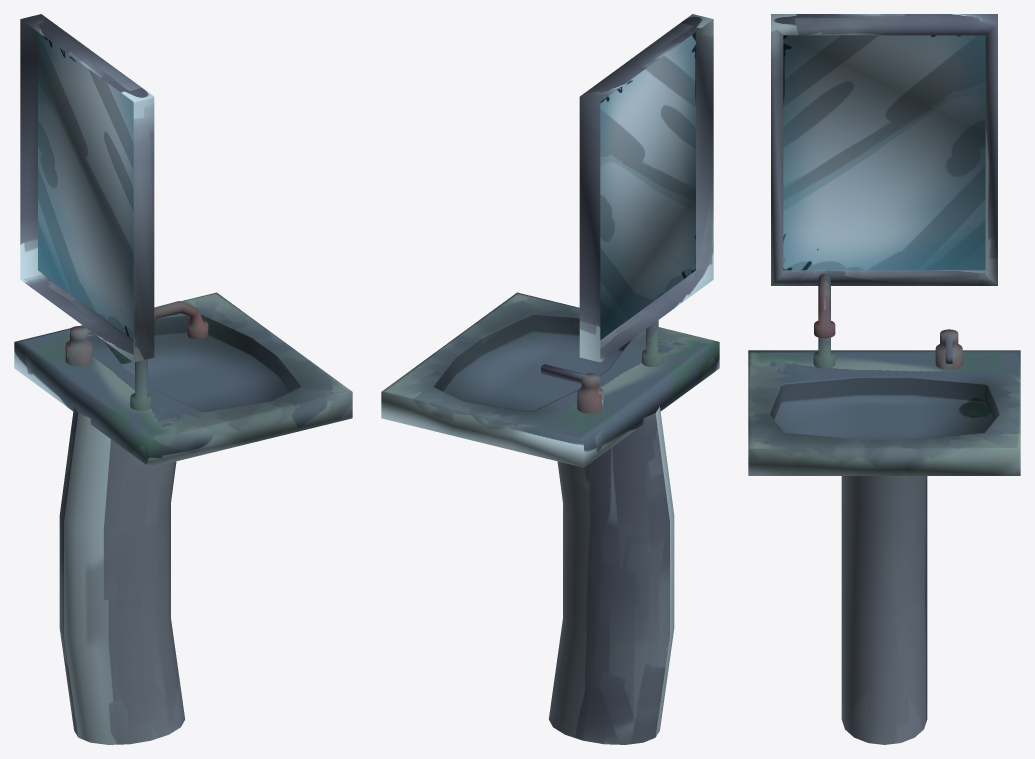
File: Torneira.fbx
The picture shows the model from 3 angles, left to right: view 1: azimuth 30°, elevation 25°; view 2: azimuth 150°, elevation 25°; view 3: azimuth 270°, elevation 25°; orthographic projection.
Parts seen in each view (by area): view 1: Torneira; view 2: Torneira; view 3: Torneira.
Part boxes in pixels (left/top/right/bottom): Torneira: left=14, top=14, right=352, bottom=744; Torneira: left=381, top=14, right=719, bottom=744; Torneira: left=748, top=14, right=1020, bottom=744.
Bounding box in the file's own units: 98.12 × 104 × 288.
